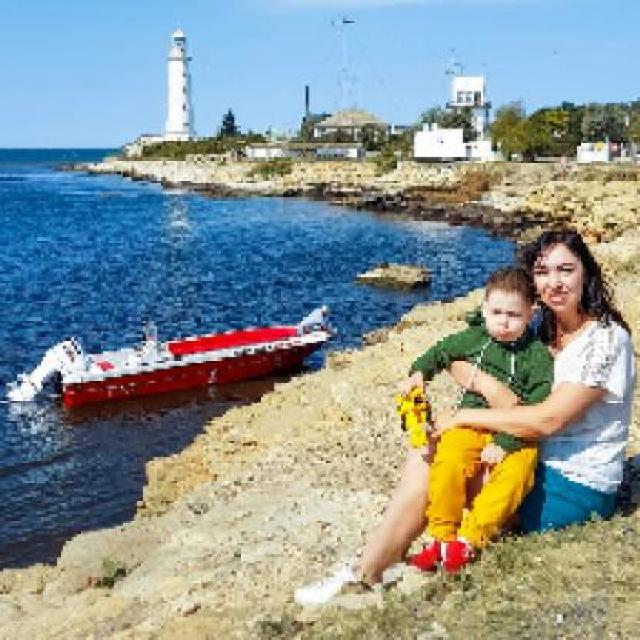child: (397, 268, 554, 572)
